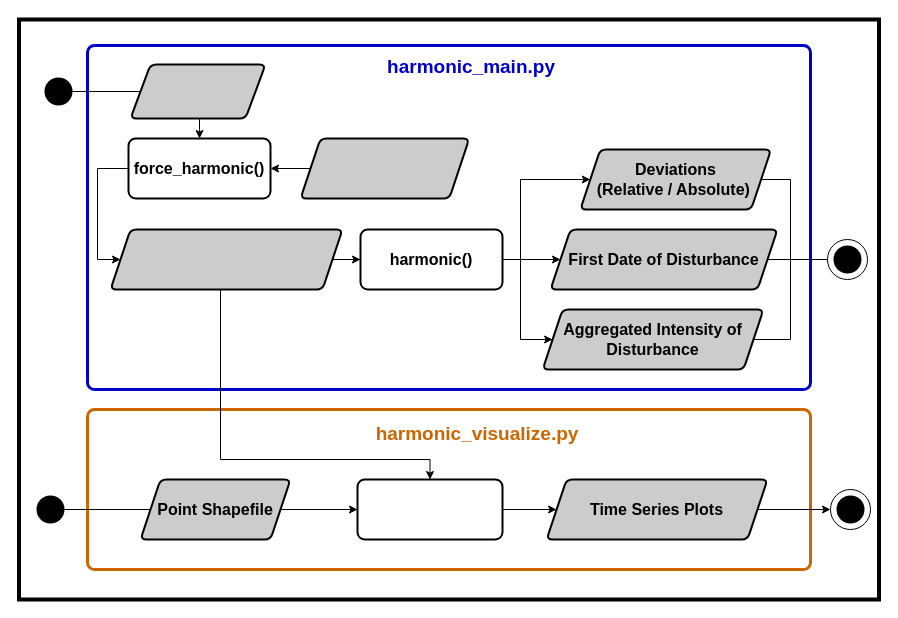
The diagram is 898 pixels wide and 618 high, and some of its shapes have lost their labels. Here are the shapes that lost their labels. From the top down, the box of each, then its label:
(129, 63, 266, 119): AOI
(299, 137, 470, 199): FORCE-Datacube
(109, 228, 343, 290): T ime S eries S tack T ime S eries I nterpolation
(356, 478, 503, 540): plot_timeseries()
